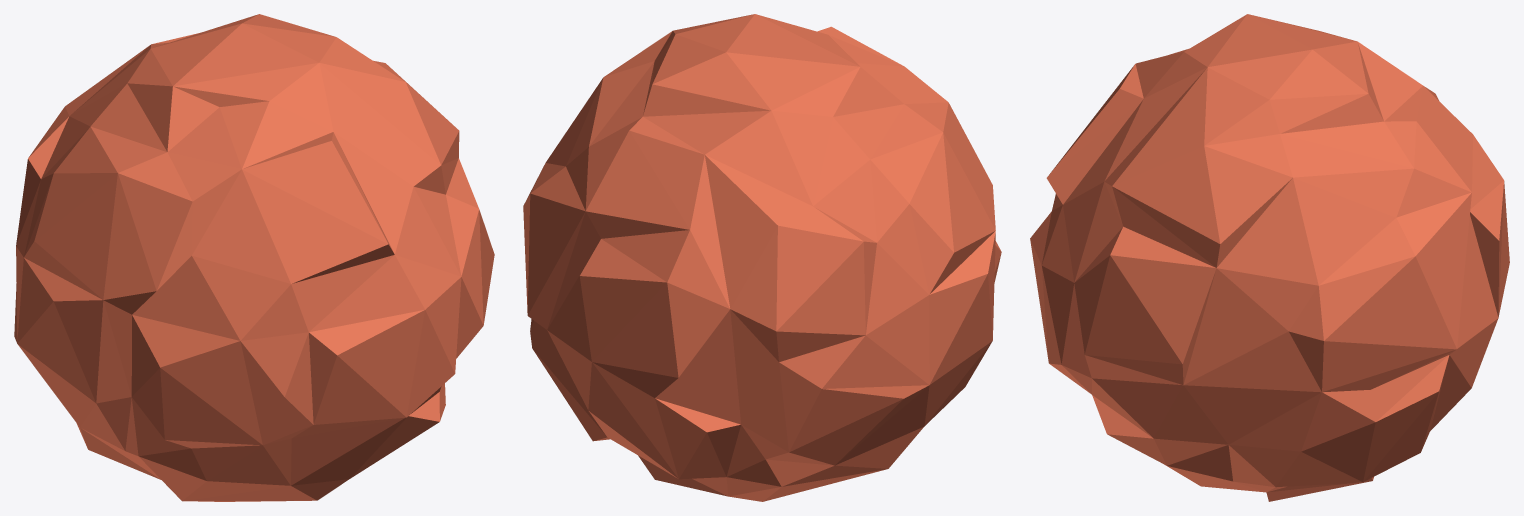
Rendered from dry_planet6.fbx.
3 renders of one model, left to right at view 1: azimuth 30°, elevation 25°; view 2: azimuth 150°, elevation 25°; view 3: azimuth 270°, elevation 25°, orthographic.
Parts seen in each view (by area): view 1: dry_planet6; view 2: dry_planet6; view 3: dry_planet6.
Part boxes in pixels (x1=…): dry_planet6: x1=14, y1=14, x2=494, y2=501; dry_planet6: x1=523, y1=14, x2=1001, y2=501; dry_planet6: x1=1030, y1=14, x2=1509, y2=501.
Size of the model in its own units: 214 by 212 by 213.
